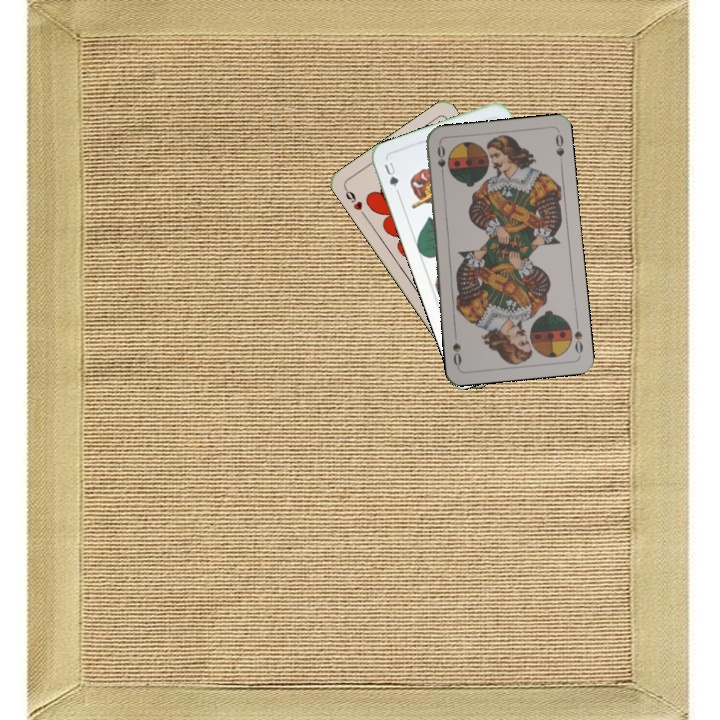GU: (380, 158, 401, 190)
H9: (341, 184, 368, 220)
SO: (433, 141, 448, 181), (570, 317, 585, 356)
